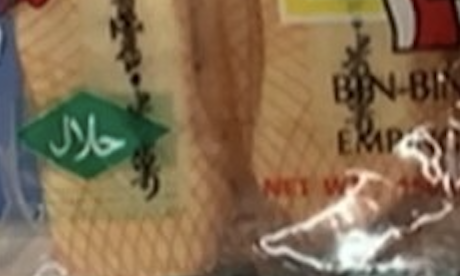halal: (51, 114, 123, 160)
